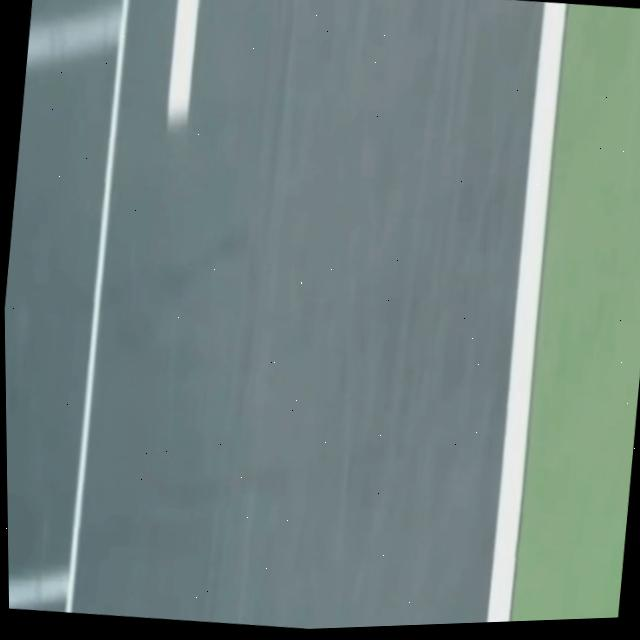center: (166, 0, 199, 129)
right: (486, 2, 566, 622)
